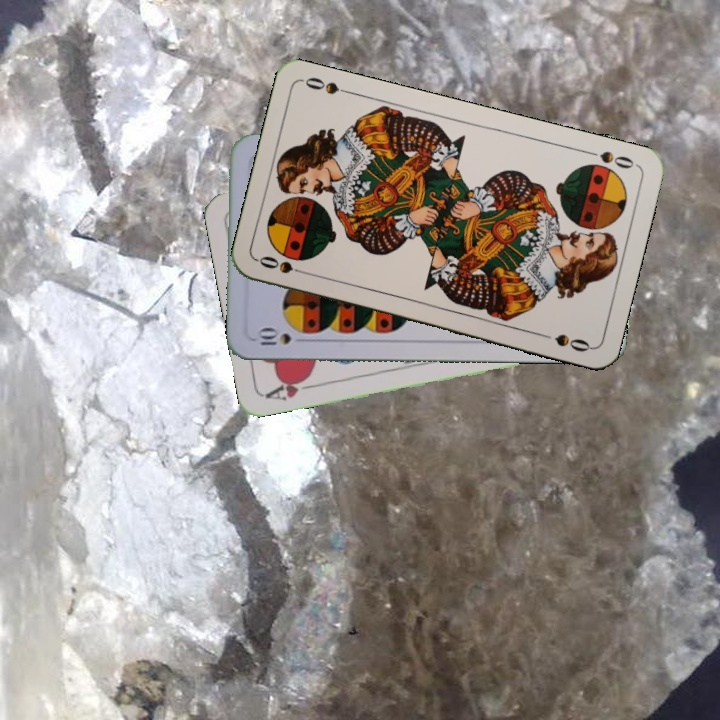HA: (262, 371, 321, 404)
S10: (251, 327, 294, 348)
SO: (255, 252, 313, 278), (581, 146, 639, 172)
